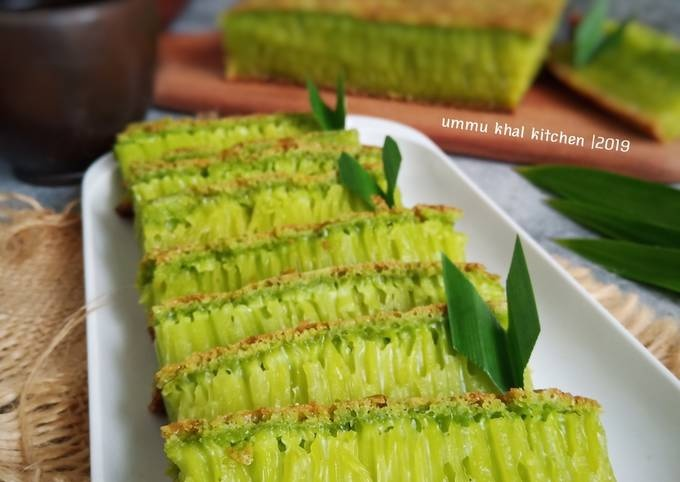bika_ambon: (161, 348, 620, 482), (147, 225, 510, 352)
